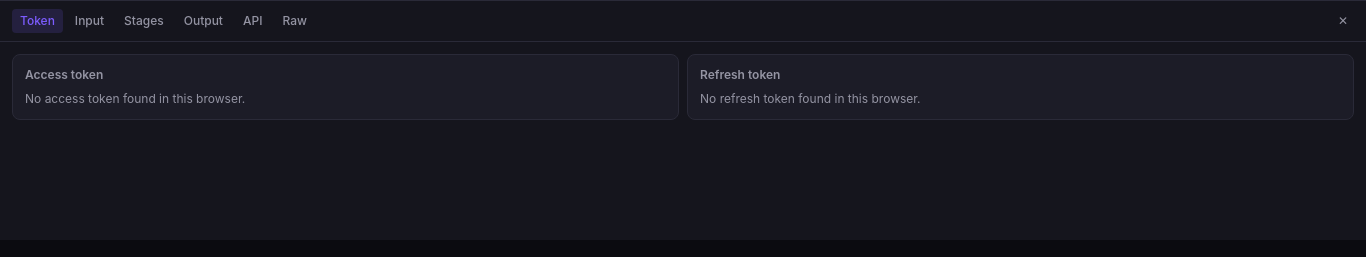
Test: InspectorDock › OUTPUT tab shows the final event, a trace link, and copy actions
Click the button "Output".
click(203, 21)  # box x1=176 y1=9 x2=231 y2=33
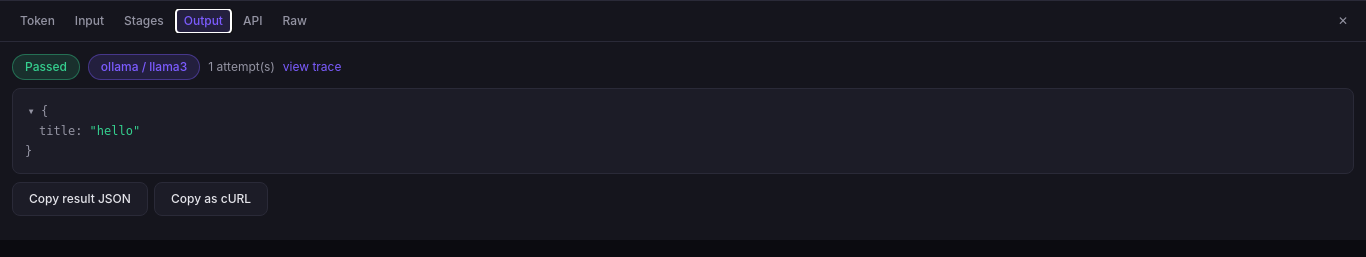
Expected: the text "Passed" is shown, x1=12 y1=54 x2=80 y2=80
Expected: the button "Copy result JSON" is shown, x1=12 y1=182 x2=148 y2=216
Expected: the button "Copy as cURL" is shown, x1=154 y1=182 x2=268 y2=216
